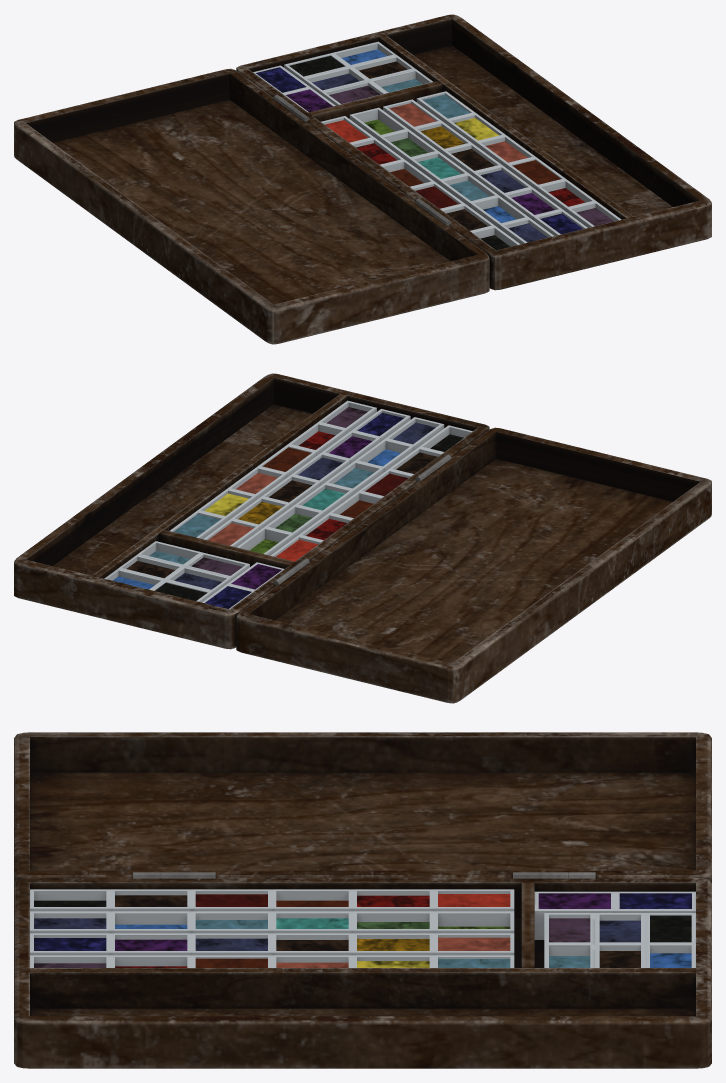
File: M_Aquarellkasten.fbx
The picture shows the model from 3 angles, top to bottom: view 1: azimuth 30°, elevation 25°; view 2: azimuth 150°, elevation 25°; view 3: azimuth 270°, elevation 25°; orthographic projection. The views are drawn at different scales.
Visible parts, largest first — view 1: Aquarellkasten; view 2: Aquarellkasten; view 3: Aquarellkasten.
Boxes of the visible parts, box(x1,y1,x2,y2) form: Aquarellkasten: box(14, 14, 711, 344); Aquarellkasten: box(14, 373, 711, 703); Aquarellkasten: box(14, 732, 711, 1068).
Size of the model in its own units: 26.94 by 2.26 by 27.3.
